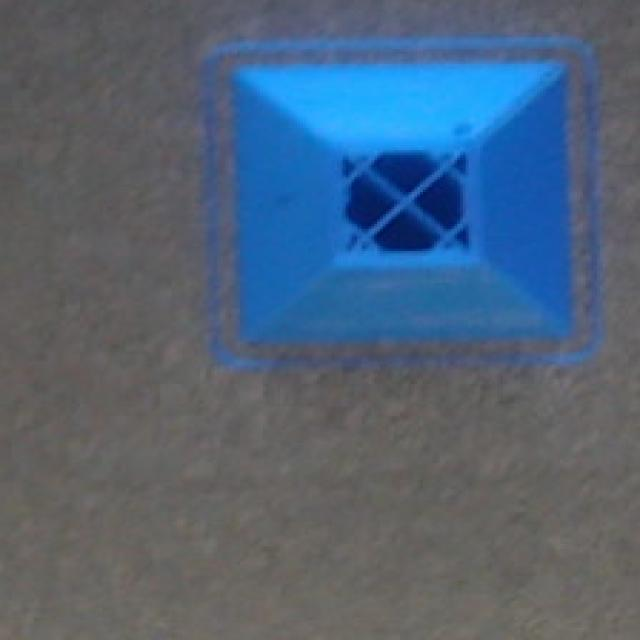mistake: (206, 39, 597, 359)
